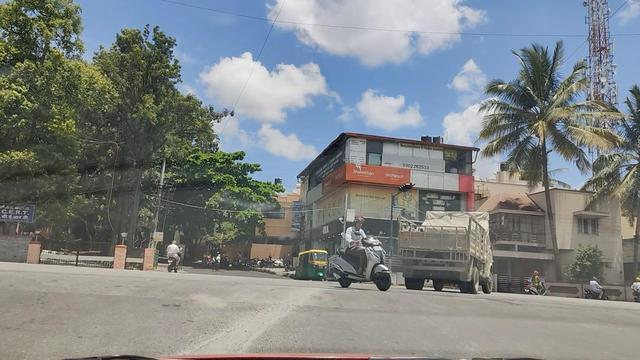HMV: (391, 207, 482, 286)
LMV: (330, 222, 387, 290)
RoadDamages: (181, 306, 299, 360)
